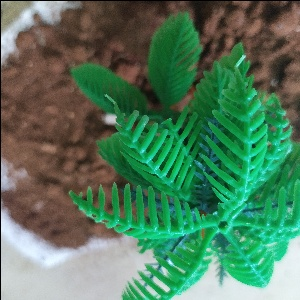plant: (67, 10, 300, 298)
